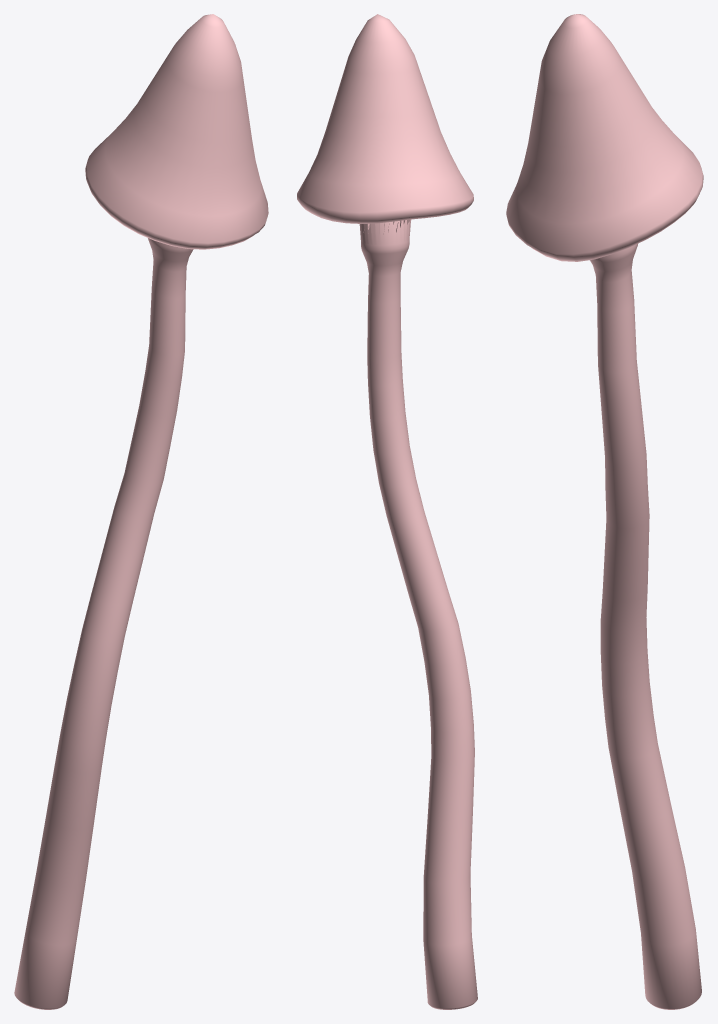
The model's file is Mushroom21.fbx.
3 renders of one model, left to right at view 1: azimuth 30°, elevation 25°; view 2: azimuth 150°, elevation 25°; view 3: azimuth 270°, elevation 25°, orthographic. The views are drawn at different scales.
Parts seen in each view (by area): view 1: shroom_tall.017; view 2: shroom_tall.017; view 3: shroom_tall.017.
Boxes of the visible parts, bbox=[...] form: shroom_tall.017: bbox=[14, 14, 268, 1009]; shroom_tall.017: bbox=[297, 14, 477, 1009]; shroom_tall.017: bbox=[506, 14, 703, 1009].
Size of the model in its own units: 456 by 2077 by 354.
